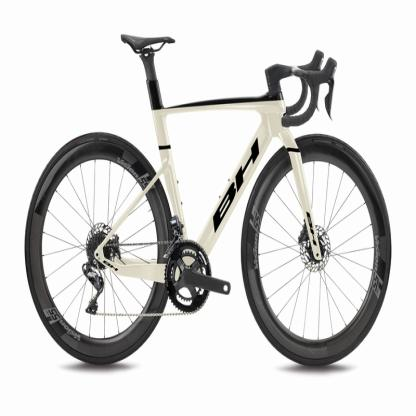Bike: (24, 33, 394, 370)
